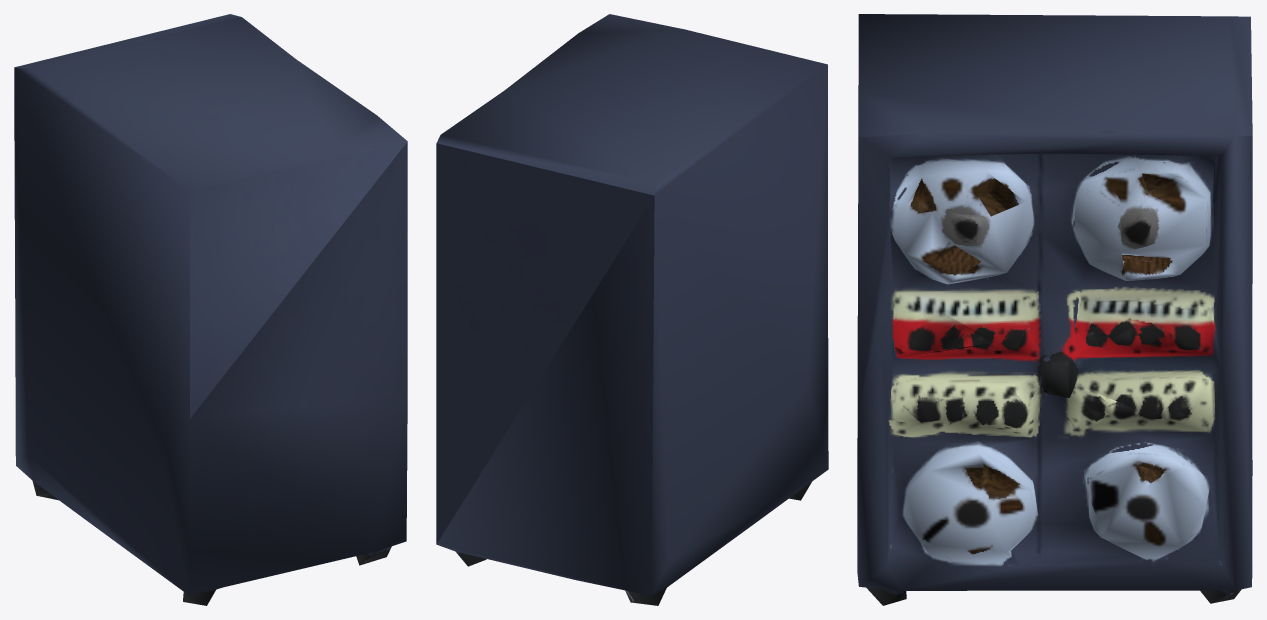
Rendered from mainframe-cabinet.glb.
3 views of the same model, side by side, from view 1: azimuth 30°, elevation 25°; view 2: azimuth 150°, elevation 25°; view 3: azimuth 270°, elevation 25° (orthographic). The views are drawn at different scales.
Parts seen in each view (by area): view 1: geometry_0.001; view 2: geometry_0.001; view 3: geometry_0.001.
Boxes of the visible parts, x1,y1,x2,y2 form: geometry_0.001: (14,14,407,605); geometry_0.001: (436,14,828,605); geometry_0.001: (857,14,1252,605).
Bounding box in the file's own units: 0.5787 × 1 × 0.7422.
Materials: 1 (1 with a texture image).
